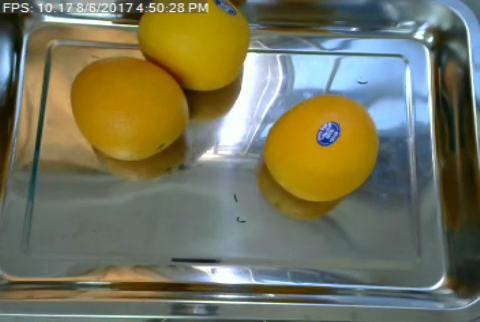Orange: (264, 94, 378, 203), (70, 56, 187, 161), (136, 0, 250, 90)
